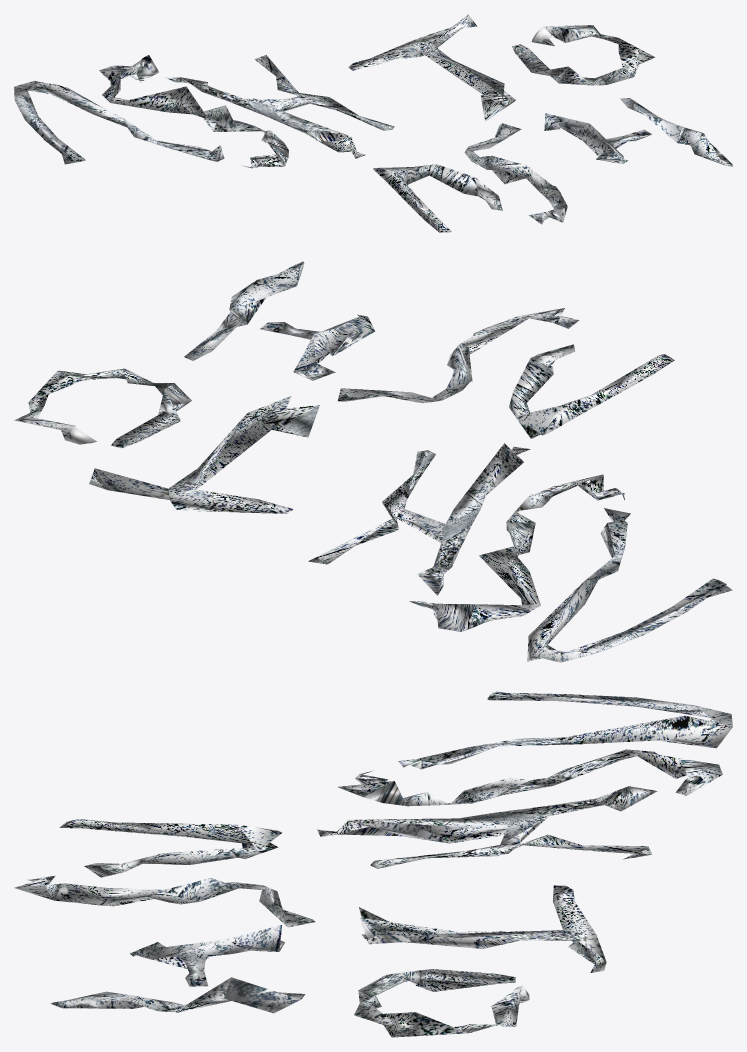
The model's file is 04_ASH_TO_ASH.glb.
3 views of the same model, one above another, from view 1: azimuth 30°, elevation 25°; view 2: azimuth 150°, elevation 25°; view 3: azimuth 270°, elevation 25° (orthographic). The views are drawn at different scales.
Visible parts, largest first — view 1: 04_ASH_TO_ASH; view 2: 04_ASH_TO_ASH; view 3: 04_ASH_TO_ASH.
Boxes of the visible parts, x1=… form: 04_ASH_TO_ASH: x1=14, y1=14, x2=732, y2=232; 04_ASH_TO_ASH: x1=14, y1=261, x2=732, y2=662; 04_ASH_TO_ASH: x1=14, y1=691, x2=732, y2=1037.
Bounding box in the file's own units: 1.71 × 0.0779 × 1.49.
Materials: 1 (1 with a texture image).
